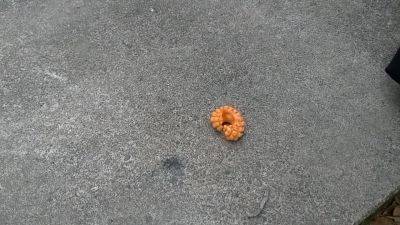eggs: (210, 104, 249, 143)
